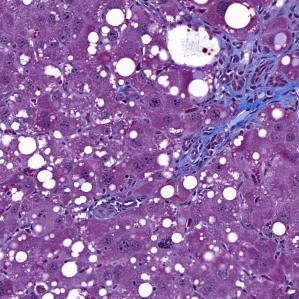fibrosis: (209, 38, 298, 113), (161, 117, 257, 184)
